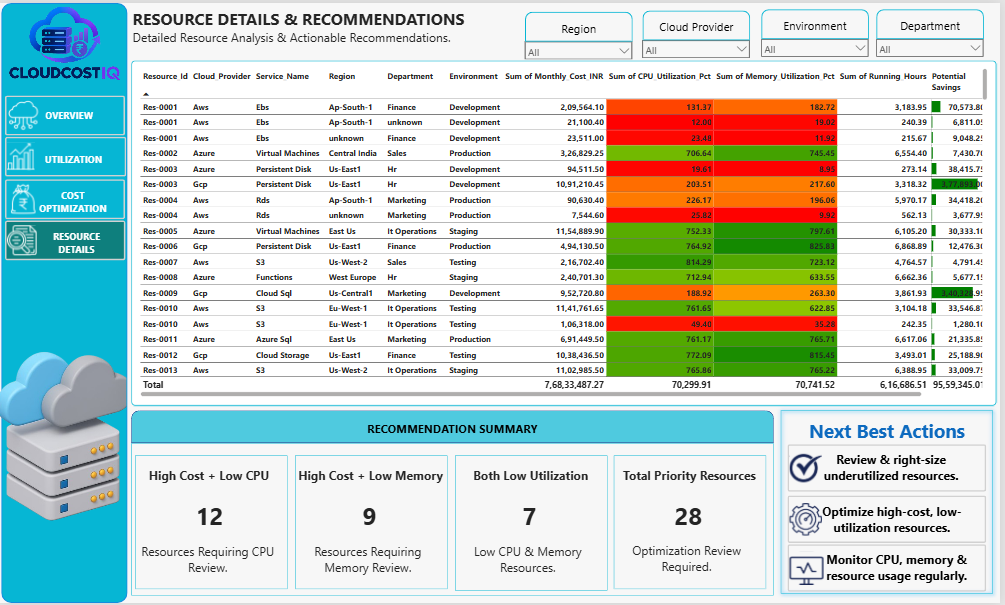

The dashboard page shown, as its layout file describes it:
{"tool":"powerbi","page":{"name":"resource details","canvas":[2000,1200],"ordinal":3},"visuals":[{"type":"shape","box":[2.5,0,252.5,1200],"z":0},{"type":"image","box":[0,635,252.5,440],"z":1000},{"type":"image","box":[3.6,7.2,253.4,157.4],"z":2000},{"type":"actionButton","title":"overview off","box":[10,185,240,80],"z":4000},{"type":"actionButton","title":"utilization off","box":[10.9,267.8,242.5,79.6],"z":6000},{"type":"actionButton","title":"cost off","box":[11.1,353.3,240,80],"z":8000},{"type":"actionButton","title":"resource on","box":[10.9,436.1,240.7,79.6],"z":9000},{"type":"textbox","box":[264.2,9,675,95.9],"z":11000},{"type":"slicer","fields":{"Values":["Cloud_billing_data.Cloud_Provider"]},"box":[1279.5,71.2,224.4,40],"z":12000},{"type":"shape","box":[1283.9,15.6,215.6,60],"z":13000},{"type":"slicer","fields":{"Values":["Cloud_billing_data.Environment"]},"box":[1517,68.7,224.4,40],"z":14000},{"type":"shape","box":[1521.5,13.2,215.6,60],"z":15000},{"type":"slicer","fields":{"Values":["Cloud_billing_data.Department"]},"box":[1748.5,66.9,224.4,40],"z":16000},{"type":"shape","box":[1753,11.4,215.6,60],"z":17000},{"type":"slicer","fields":{"Values":["Cloud_billing_data.Region"]},"box":[1045.9,72.9,224.4,40],"z":18000},{"type":"shape","box":[1050.4,17.3,215.6,60],"z":19000},{"type":"tableEx","fields":{"Values":["Cloud_billing_data.Resource_Id","Cloud_billing_data.Cloud_Provider","Cloud_billing_data.Service_Name","Cloud_billing_data.Region","Cloud_billing_data.Department","Cloud_billing_data.Environment","Sum(Cloud_billing_data.Monthly_Cost_INR)","Sum(Cloud_billing_data.CPU_Utilization_Pct)","Sum(Cloud_billing_data.Memory_Utilization_Pct)","Sum(Cloud_billing_data.Running_Hours)","formulas.Potential Savings","Cloud_billing_data.Utilization_Status"]},"box":[262.5,115,1730,690],"z":20000},{"type":"shape","box":[262.5,880,1285,305],"z":21000},{"type":"shape","box":[262.5,815,1285,65],"z":22000},{"type":"shape","title":"HI","box":[270,905,305,267.5],"z":23000},{"type":"textbox","box":[264.8,910.2,306,64],"z":24000},{"type":"textbox","box":[328.8,992.2,178,70],"z":25000},{"type":"textbox","box":[262.8,1062.2,306,86],"z":26000},{"type":"shape","title":"HI","box":[590,905,305,267.5],"z":27000},{"type":"textbox","box":[585.2,910.6,306,64],"z":28000},{"type":"textbox","box":[649.2,992.6,178,70],"z":29000},{"type":"textbox","box":[582.8,1062.2,306,116],"z":30000},{"type":"shape","title":"HI","box":[910,905,305,270],"z":31000},{"type":"textbox","box":[905.6,911,306,64],"z":32000},{"type":"textbox","box":[969.6,993,178,70],"z":33000},{"type":"textbox","box":[902.8,1062.2,306,116],"z":34000},{"type":"shape","title":"HI","box":[1227.5,905,305,267.5],"z":35000},{"type":"textbox","box":[1222.8,909.8,306,64],"z":36000},{"type":"textbox","box":[1286.8,991.8,178,70],"z":37000},{"type":"textbox","box":[1220,1061,306,116],"z":38000},{"type":"shape","box":[1552.5,805,442.5,385],"z":39000},{"type":"textbox","box":[1607.5,830,332.5,65],"z":40000},{"type":"actionButton","title":"overview off","box":[1575,882.5,397.5,95],"z":41000},{"type":"actionButton","title":"overview off","box":[1575,985,397.5,95],"z":42000},{"type":"actionButton","title":"overview off","box":[1575,1082.5,397.5,95],"z":43000}]}

Visuals, with their boxes in screenshot pixels (x1, y1, x2, y2), scaled from the page's 2000x1200 canvas onto the 1005x605 screenshot:
shape: (x1=1, y1=0, x2=128, y2=604)
image: (x1=0, y1=320, x2=127, y2=542)
image: (x1=2, y1=4, x2=129, y2=83)
"overview off" actionButton: (x1=5, y1=93, x2=126, y2=134)
"utilization off" actionButton: (x1=5, y1=135, x2=127, y2=175)
"cost off" actionButton: (x1=6, y1=178, x2=126, y2=218)
"resource on" actionButton: (x1=5, y1=220, x2=126, y2=260)
textbox: (x1=133, y1=5, x2=472, y2=53)
slicer - Cloud_billing_data.Cloud_Provider: (x1=643, y1=36, x2=756, y2=56)
shape: (x1=645, y1=8, x2=753, y2=38)
slicer - Cloud_billing_data.Environment: (x1=762, y1=35, x2=875, y2=55)
shape: (x1=765, y1=7, x2=873, y2=37)
slicer - Cloud_billing_data.Department: (x1=879, y1=34, x2=991, y2=54)
shape: (x1=881, y1=6, x2=989, y2=36)
slicer - Cloud_billing_data.Region: (x1=526, y1=37, x2=638, y2=57)
shape: (x1=528, y1=9, x2=636, y2=39)
tableEx - Cloud_billing_data.Resource_Id x Cloud_billing_data.Cloud_Provider: (x1=132, y1=58, x2=1001, y2=406)
shape: (x1=132, y1=444, x2=778, y2=597)
shape: (x1=132, y1=411, x2=778, y2=444)
"HI" shape: (x1=136, y1=456, x2=289, y2=591)
textbox: (x1=133, y1=459, x2=287, y2=491)
textbox: (x1=165, y1=500, x2=255, y2=536)
textbox: (x1=132, y1=536, x2=286, y2=579)
"HI" shape: (x1=296, y1=456, x2=450, y2=591)
textbox: (x1=294, y1=459, x2=448, y2=491)
textbox: (x1=326, y1=500, x2=416, y2=536)
textbox: (x1=293, y1=536, x2=447, y2=594)
"HI" shape: (x1=457, y1=456, x2=611, y2=592)
textbox: (x1=455, y1=459, x2=609, y2=492)
textbox: (x1=487, y1=501, x2=577, y2=536)
textbox: (x1=454, y1=536, x2=607, y2=594)
"HI" shape: (x1=617, y1=456, x2=770, y2=591)
textbox: (x1=614, y1=459, x2=768, y2=491)
textbox: (x1=647, y1=500, x2=736, y2=535)
textbox: (x1=613, y1=535, x2=767, y2=593)
shape: (x1=780, y1=406, x2=1002, y2=600)
textbox: (x1=808, y1=418, x2=975, y2=451)
"overview off" actionButton: (x1=791, y1=445, x2=991, y2=493)
"overview off" actionButton: (x1=791, y1=497, x2=991, y2=544)
"overview off" actionButton: (x1=791, y1=546, x2=991, y2=594)
